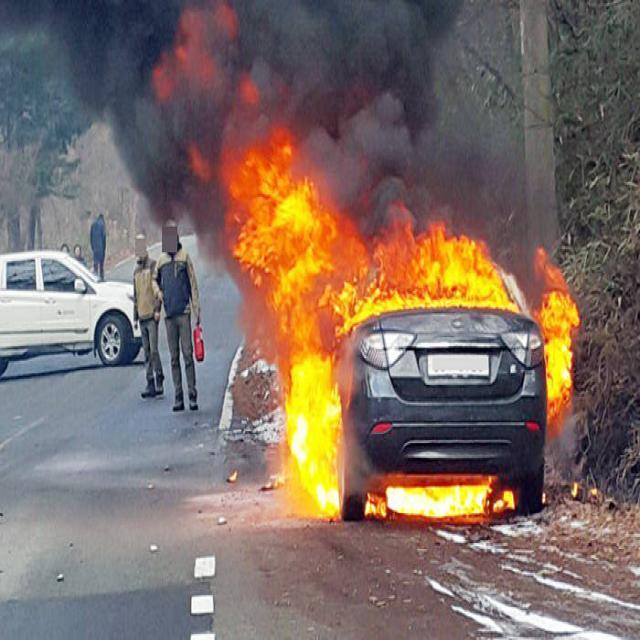Fire: (277, 231, 524, 326), (288, 338, 343, 530), (544, 255, 580, 446)
